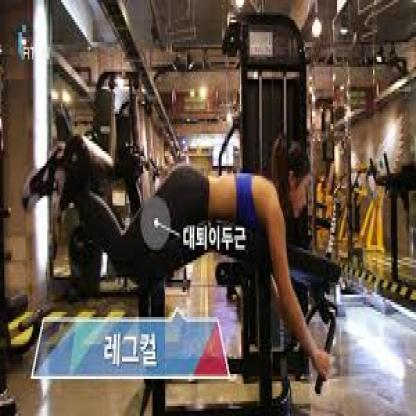reg curl machine: (21, 103, 347, 397)
